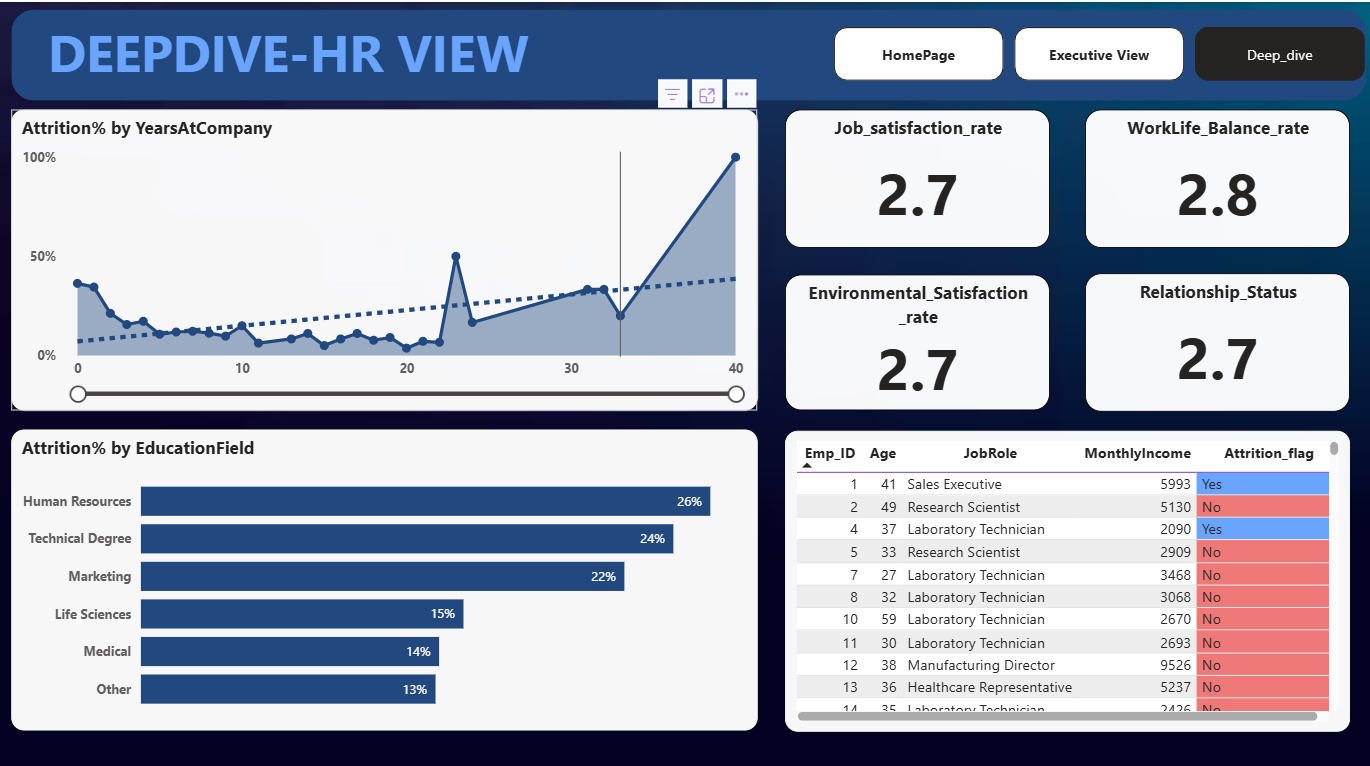

Layout of this report page (visuals, bound fields, positions):
{"tool":"powerbi","page":{"name":"Deep_dive","canvas":[1280,720],"ordinal":2},"visuals":[{"type":"shape","box":[10.5,7,1260.5,84.9],"z":0},{"type":"areaChart","fields":{"Y":["Table.Attrition%"],"Category":["WA_Fn-UseC_-HR-Employee-Attrition.YearsAtCompany"]},"box":[10.5,100,694.2,280.2],"z":1000},{"type":"barChart","fields":{"Category":["WA_Fn-UseC_-HR-Employee-Attrition.EducationField"],"Y":["Table.Attrition%"]},"box":[10.5,397.7,694.2,280.2],"z":2000},{"type":"card","title":"Job_satisfaction_rate","fields":{"Values":["Table.Avg_jobsatisfaction"]},"box":[730.2,100,246.5,129.1],"z":3000},{"type":"card","title":"WorkLife_Balance_rate","fields":{"Values":["Table.Avg_Worklifebalance"]},"box":[1009.3,100,246.5,129.1],"z":4000},{"type":"card","title":"Environmental_Satisfaction _rate","fields":{"Values":["Table.Environmental_Satisfaction"]},"box":[730.2,253.5,246.5,126.7],"z":5000},{"type":"card","title":"Relationship_Status","fields":{"Values":["Table.Relationship_Status"]},"box":[1009.3,252.3,246.5,129.1],"z":6000},{"type":"tableEx","fields":{"Values":["WA_Fn-UseC_-HR-Employee-Attrition.EmployeeNumber","Sum(WA_Fn-UseC_-HR-Employee-Attrition.Age)","WA_Fn-UseC_-HR-Employee-Attrition.JobRole","Sum(WA_Fn-UseC_-HR-Employee-Attrition.MonthlyIncome)","WA_Fn-UseC_-HR-Employee-Attrition.Attrition"]},"box":[730.2,398.8,525.6,280.2],"z":7000},{"type":"pageNavigator","box":[775.6,23.3,495.4,50],"z":7001},{"type":"textbox","box":[39.5,8.1,473.3,74.4],"z":7002}]}

Visuals, with their boxes in screenshot pixels (x1, y1, x2, y2), scaled from the page's 1280x720 canvas onto the 1370x766 screenshot:
shape: box=[11, 7, 1360, 98]
areaChart - Table.Attrition% x WA_Fn-UseC_-HR-Employee-Attrition.YearsAtCompany: box=[11, 106, 754, 404]
barChart - WA_Fn-UseC_-HR-Employee-Attrition.EducationField x Table.Attrition%: box=[11, 423, 754, 721]
"Job_satisfaction_rate" card: box=[782, 106, 1045, 244]
"WorkLife_Balance_rate" card: box=[1080, 106, 1344, 244]
"Environmental_Satisfaction _rate" card: box=[782, 270, 1045, 404]
"Relationship_Status" card: box=[1080, 268, 1344, 406]
tableEx - WA_Fn-UseC_-HR-Employee-Attrition.EmployeeNumber x Sum(WA_Fn-UseC_-HR-Employee-Attrition.Age): box=[782, 424, 1344, 722]
pageNavigator: box=[830, 25, 1360, 78]
textbox: box=[42, 9, 549, 88]
